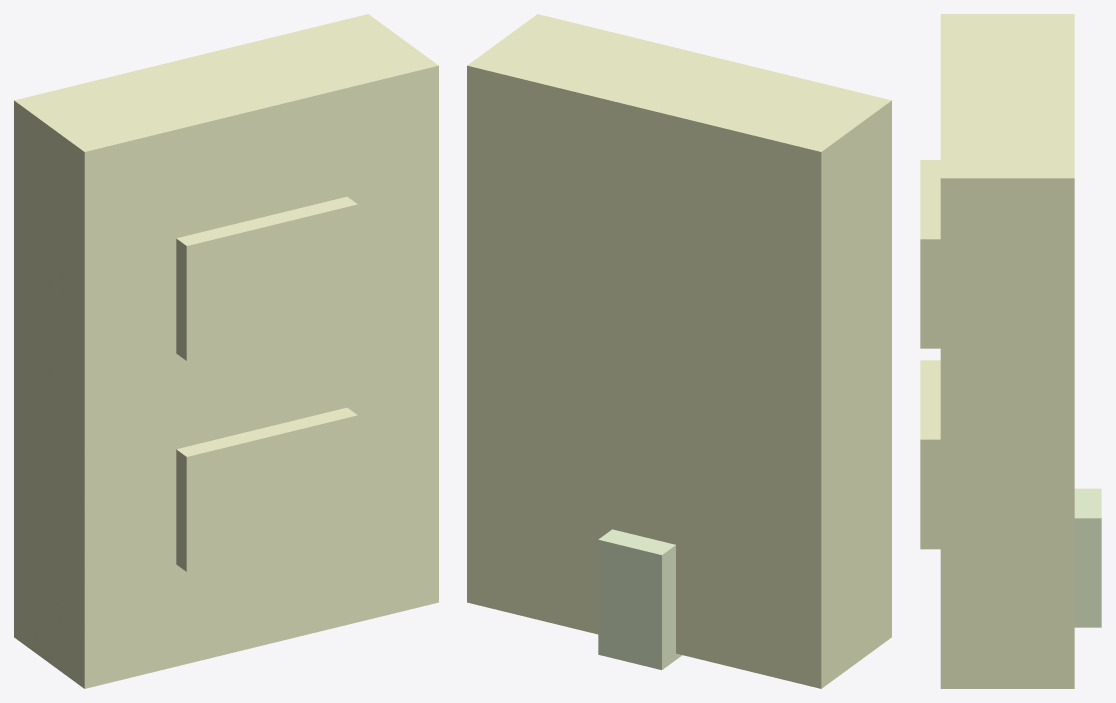
File: signal_lane_control_reversible_2_aspect.glb
3 renders of one model, left to right at view 1: azimuth 30°, elevation 25°; view 2: azimuth 150°, elevation 25°; view 3: azimuth 270°, elevation 25°, orthographic. The views are drawn at different scales.
Visible parts, largest first — view 1: housing, display_red_x, display_green_arrow; view 2: housing, bracket; view 3: housing, display_green_arrow, display_red_x, bracket.
Part boxes in pixels (bbox=[...]): housing: bbox=[14, 14, 438, 688]; display_red_x: bbox=[176, 196, 357, 360]; display_green_arrow: bbox=[176, 407, 357, 571]; housing: bbox=[467, 14, 891, 688]; bracket: bbox=[598, 529, 682, 669]; housing: bbox=[940, 14, 1074, 688]; display_green_arrow: bbox=[920, 360, 940, 549]; display_red_x: bbox=[920, 160, 940, 348]; bracket: bbox=[1074, 488, 1101, 627].
Size of the model in its own units: 0.58 by 0.85 by 0.27.
